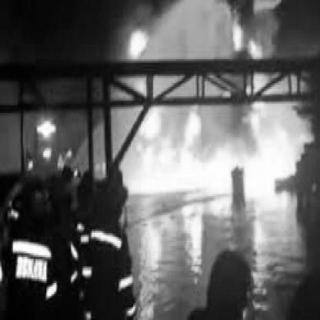other: (11, 238, 51, 256), (46, 284, 54, 294), (26, 160, 32, 168)
